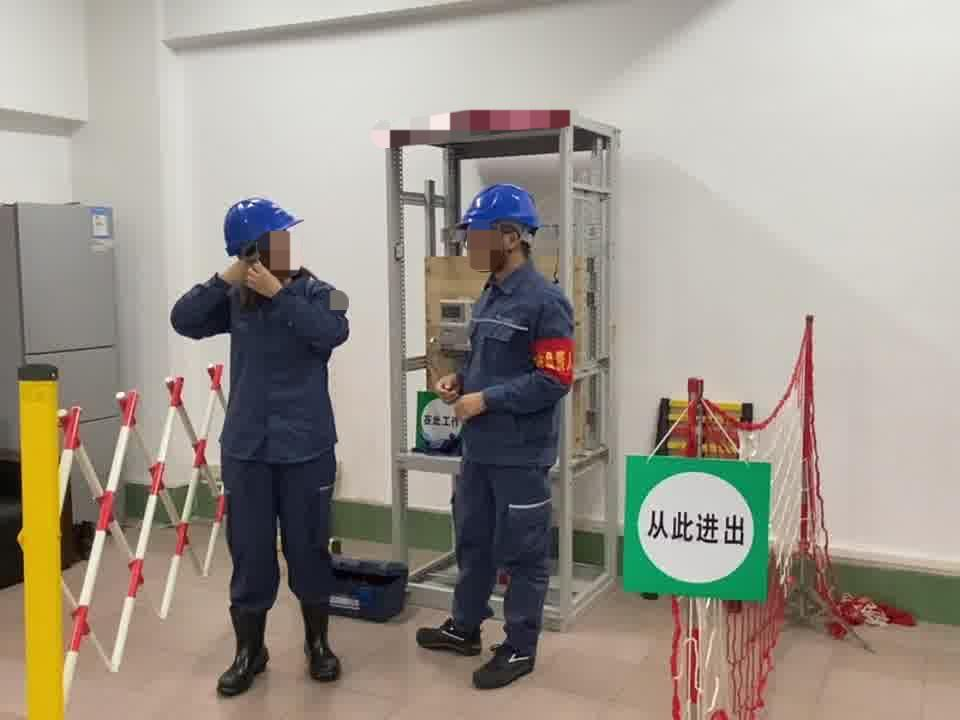halt: (459, 185, 547, 275), (224, 197, 305, 287)
inear: (495, 223, 531, 263)
